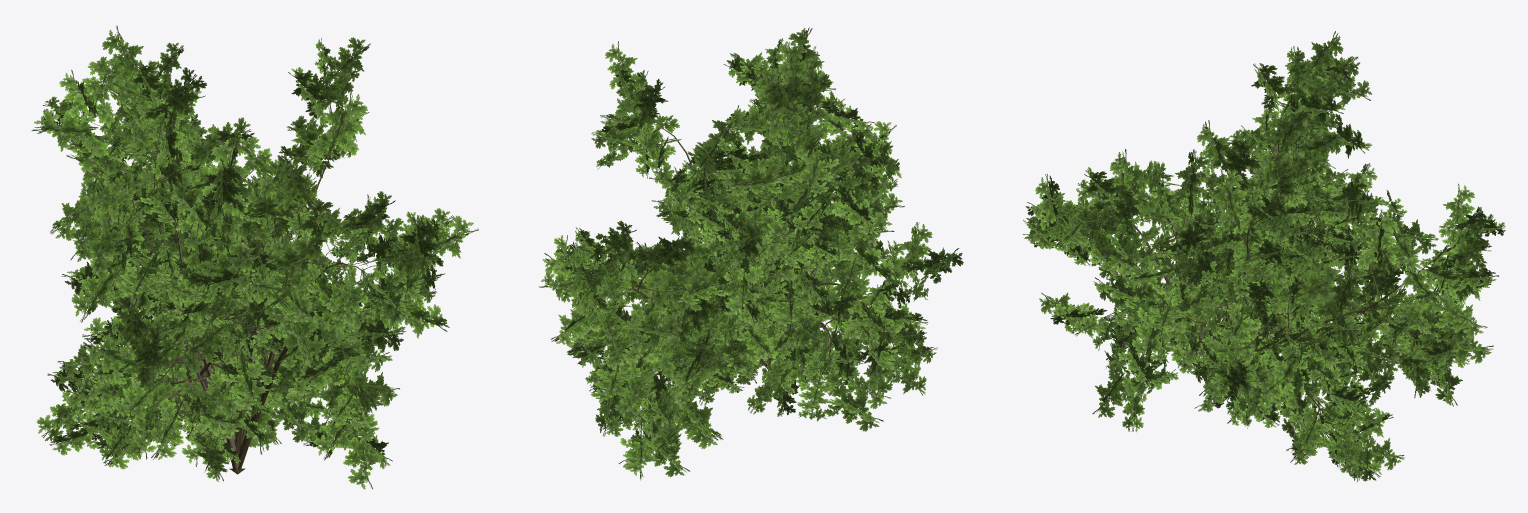
Rendered from bush_1.glb.
3 renders of one model, left to right at view 1: azimuth 30°, elevation 25°; view 2: azimuth 150°, elevation 25°; view 3: azimuth 270°, elevation 25°, orthographic. The views are drawn at different scales.
Visible parts, largest first — view 1: Leaves, Branches; view 2: Leaves, Branches; view 3: Leaves, Branches.
Part boxes in pixels (box(x1,y1,x2,y2)): Leaves: box(31, 26, 478, 489); Branches: box(88, 86, 405, 474); Leaves: box(538, 27, 963, 480); Branches: box(590, 94, 908, 431); Leaves: box(1023, 31, 1505, 481); Branches: box(1053, 92, 1465, 447).
Bounding box in the file's own units: 1.51 × 1.8 × 1.93.
Materials: 2 (2 with a texture image).
